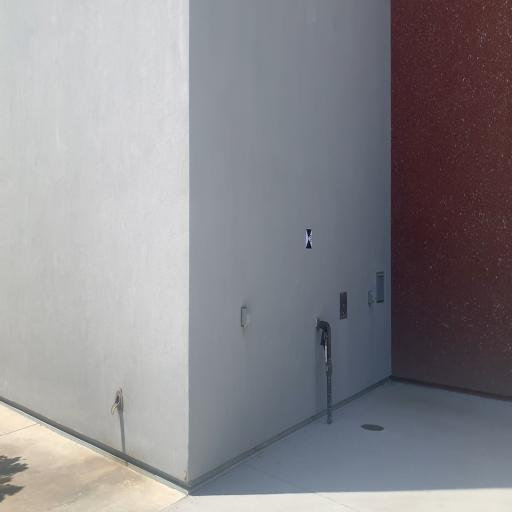target3: (305, 227, 313, 250)
